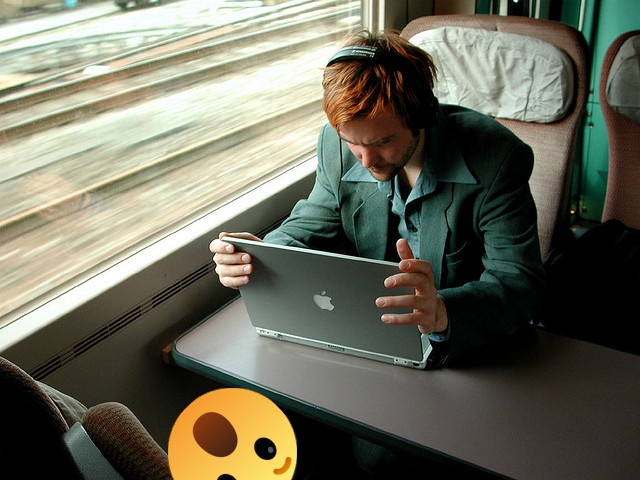wow: (168, 388, 297, 480)
